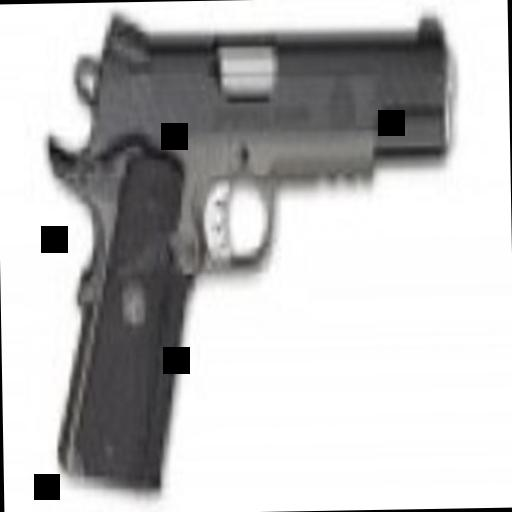Handgun: (39, 0, 460, 492)
